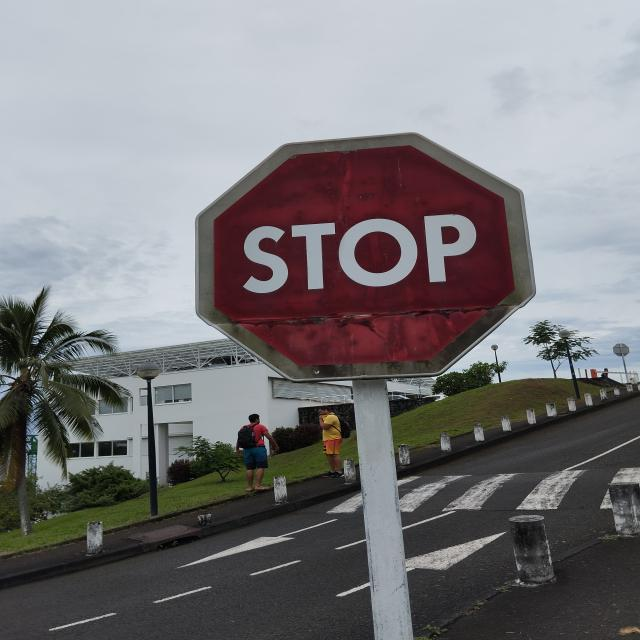Panneau-Stop: (181, 128, 536, 382)
